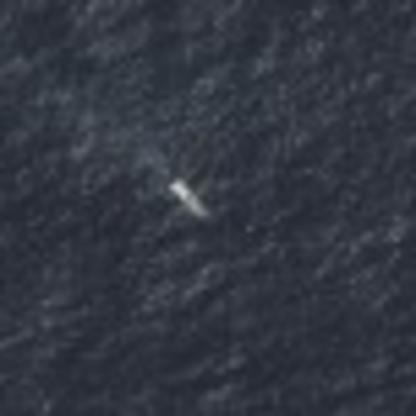ship: (157, 170, 205, 209)
